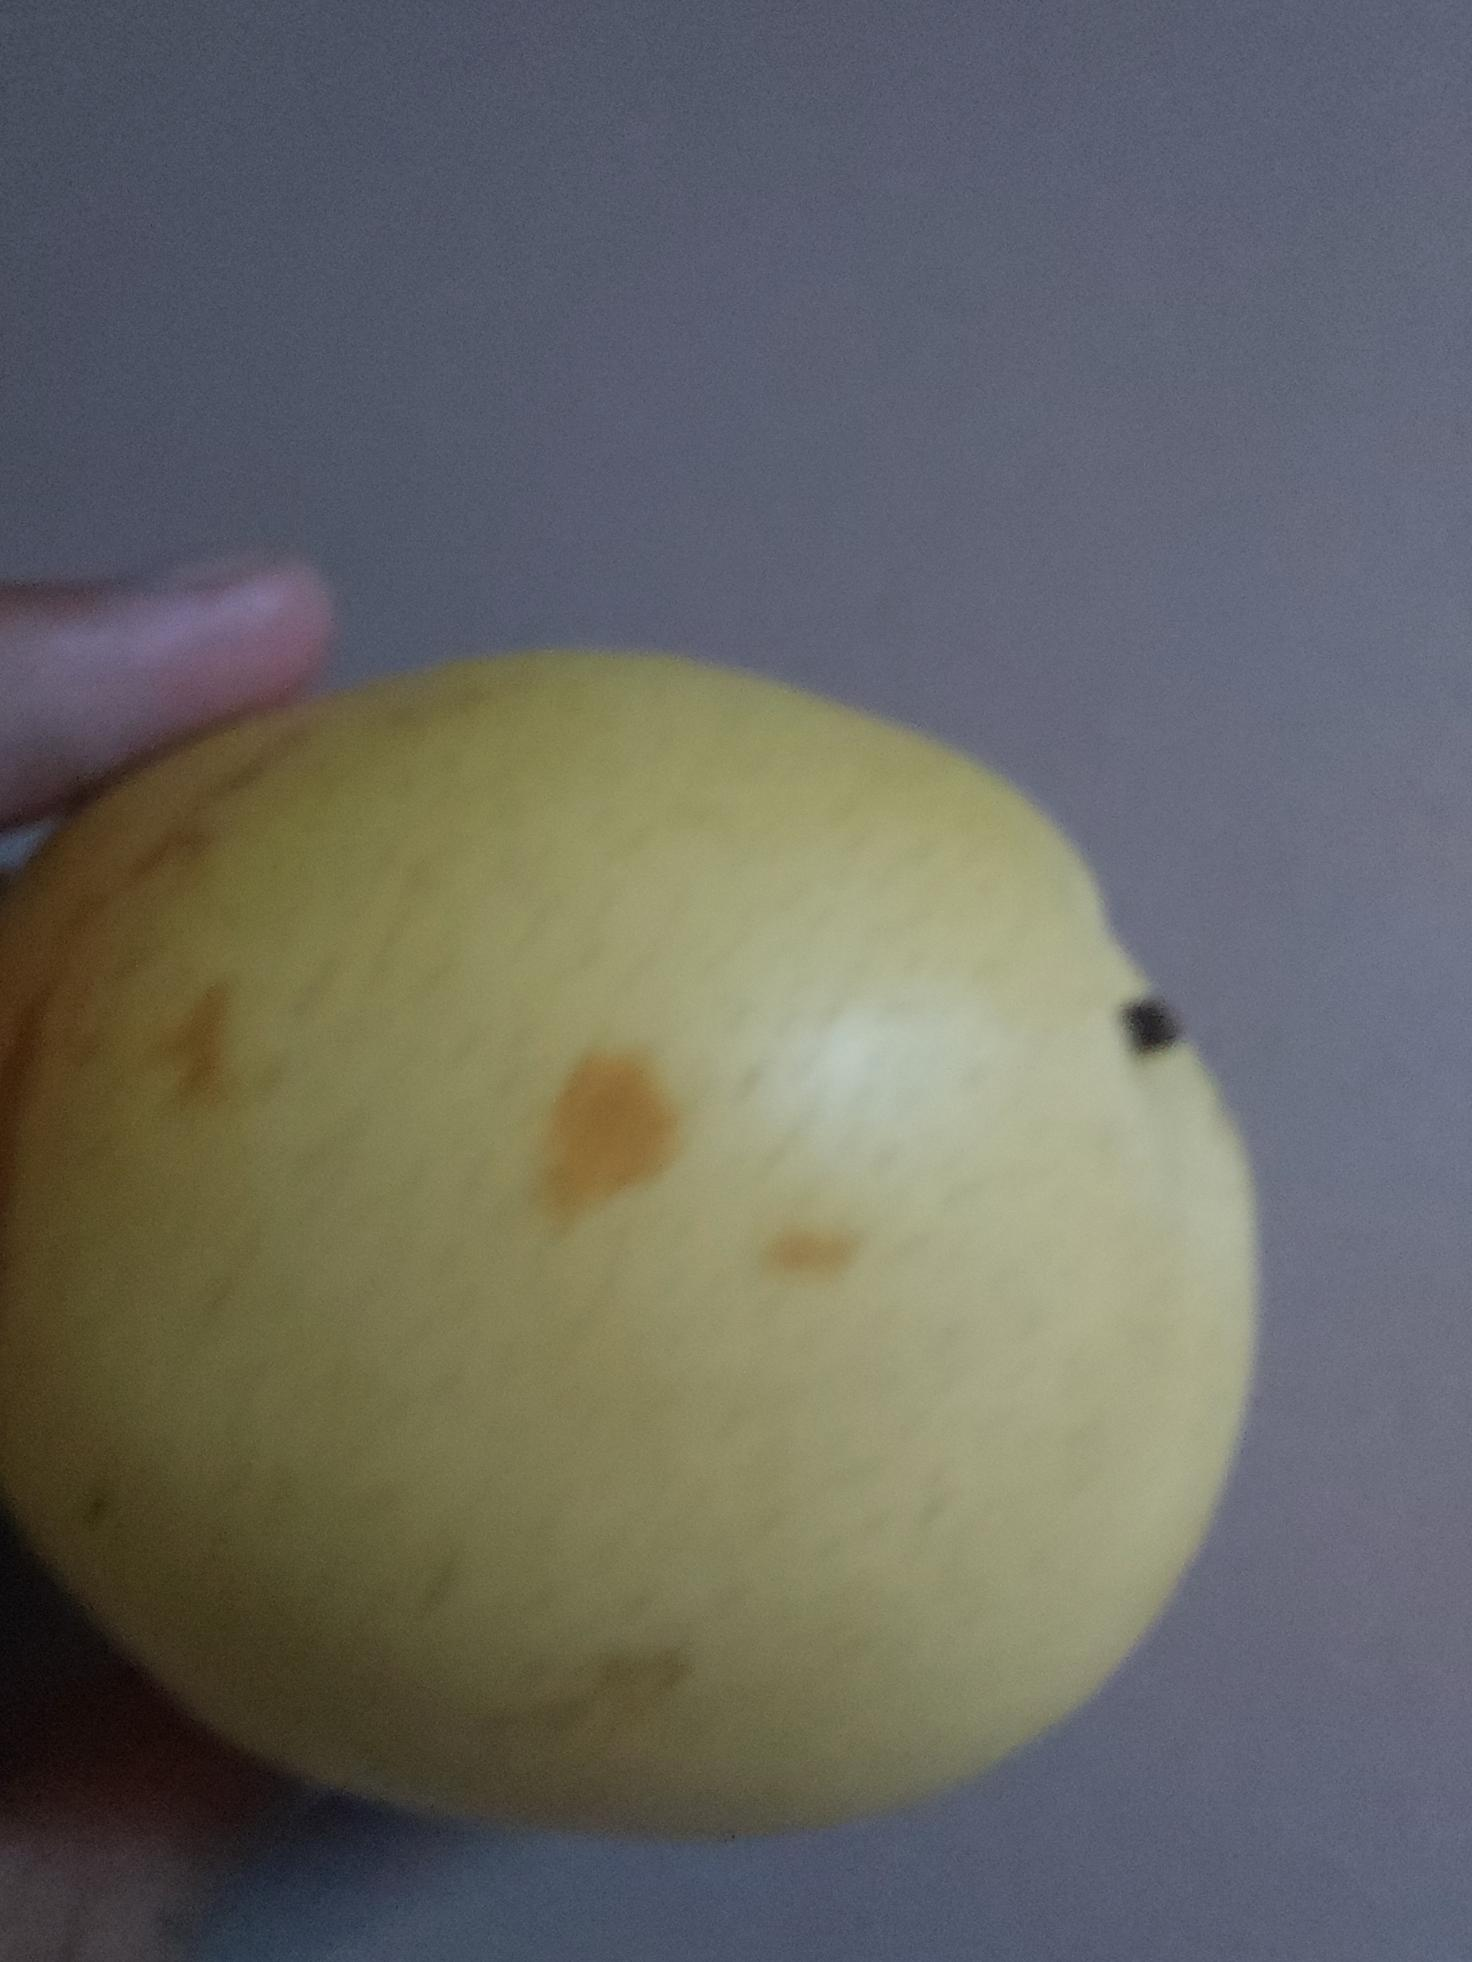Good Pear: (0, 635, 1259, 1861)
